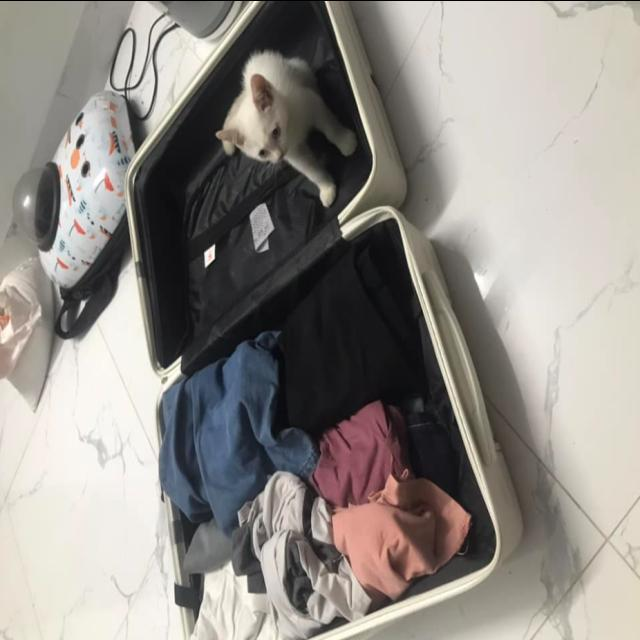cat: (206, 23, 382, 214)
